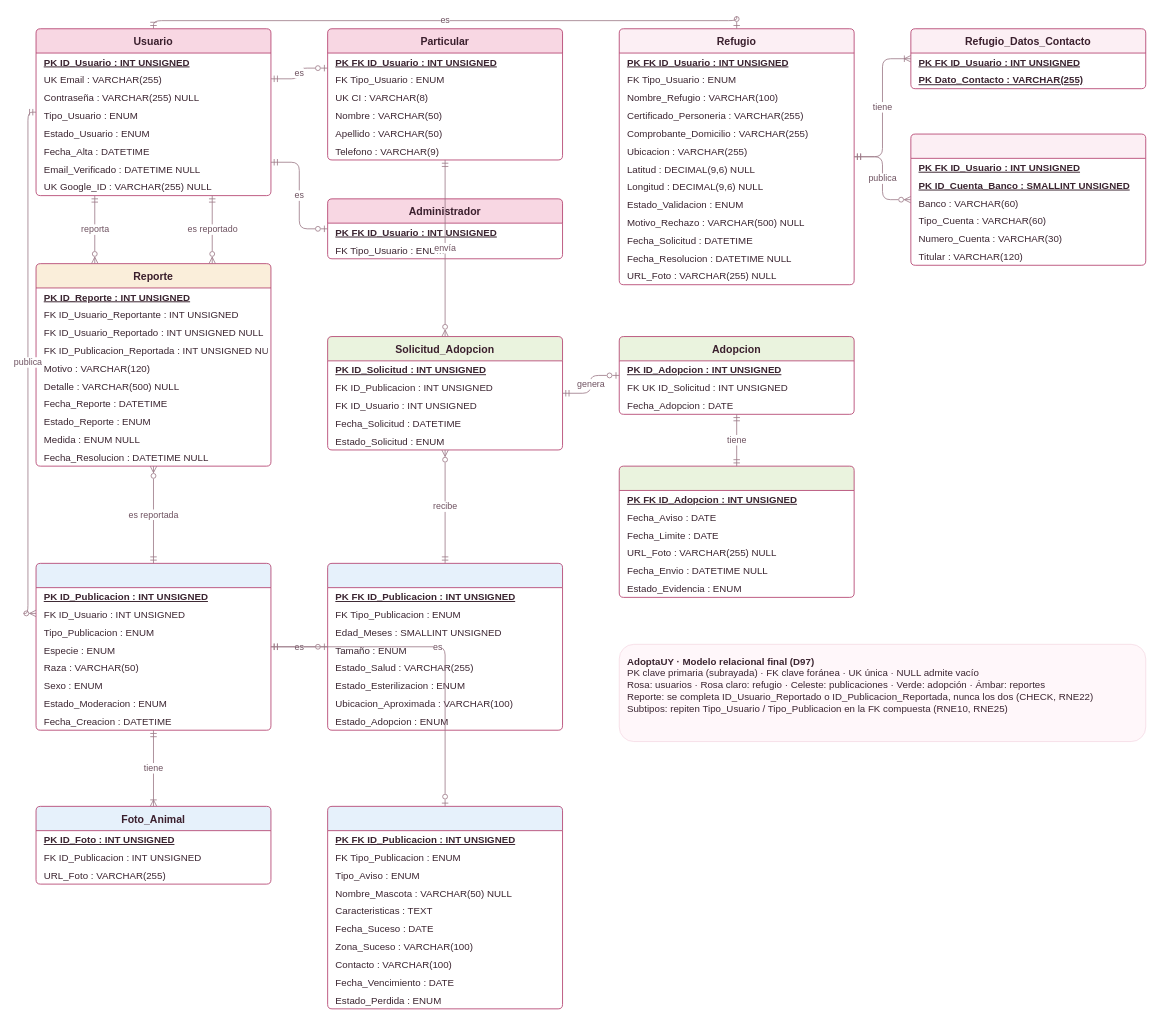
The diagram is 1160 pixels wide and 1023 high, and some of its shapes have lost their labels. The shapes that lost their labels are listed below. From the top down, each one's box as (x1, y1, x2, y2) in pixels, then its label:
(910, 133, 1146, 265): Cuenta_Bancaria
(618, 465, 854, 597): Seguimiento
(35, 563, 271, 730): Publicacion_Animal
(327, 563, 563, 730): Publicacion_Adopcion
(327, 806, 563, 1009): Publicacion_Perdida
